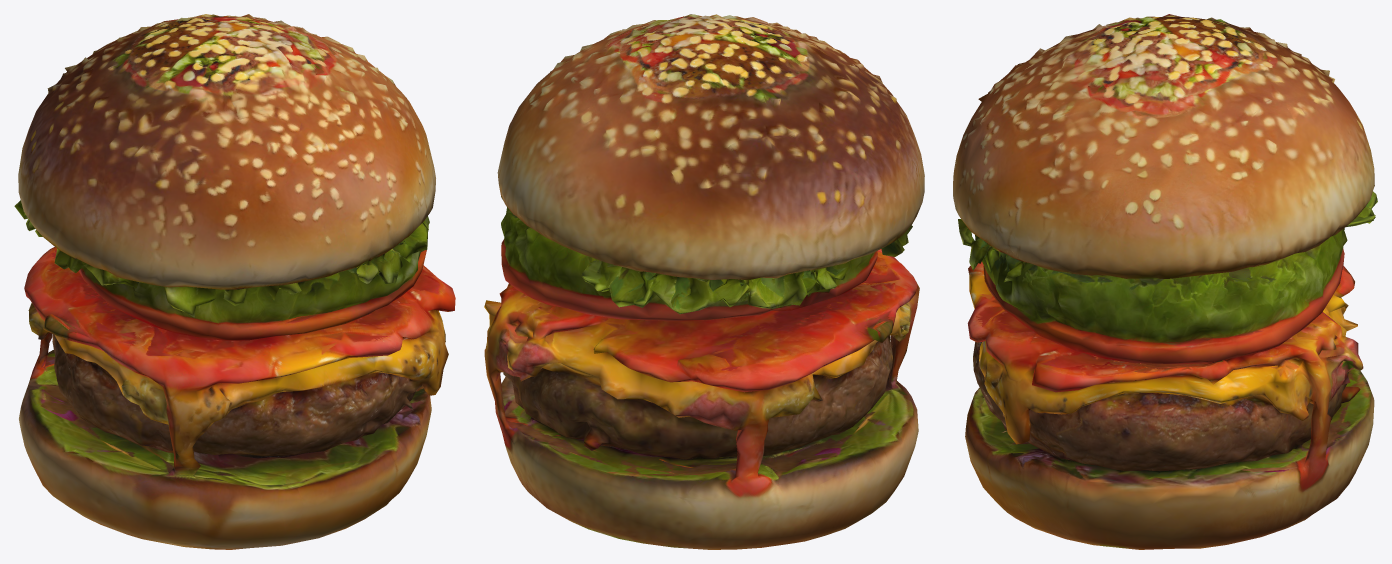
The model's file is dish2.glb.
3 views of the same model, side by side, from view 1: azimuth 30°, elevation 25°; view 2: azimuth 150°, elevation 25°; view 3: azimuth 270°, elevation 25° (orthographic).
Bounding box in the file's own units: 1.03 × 1.2 × 1.03.
Materials: 1 (1 with a texture image).
